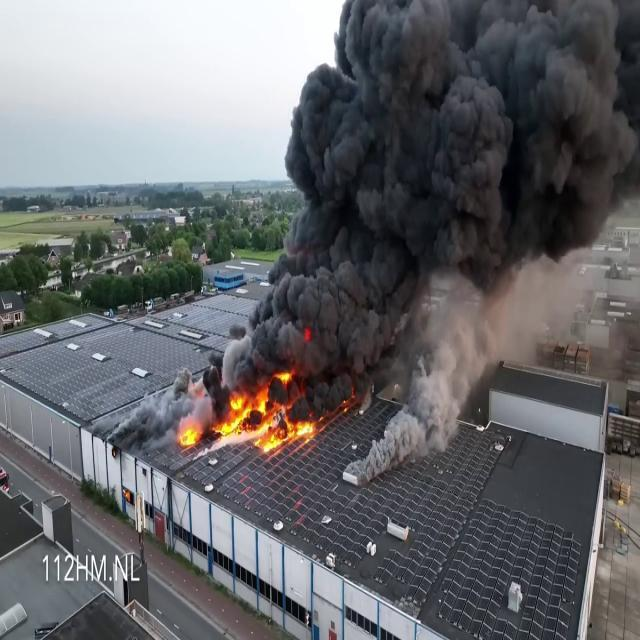Fire: (182, 382, 313, 452)
Smoke: (221, 0, 640, 395), (348, 255, 573, 485)
